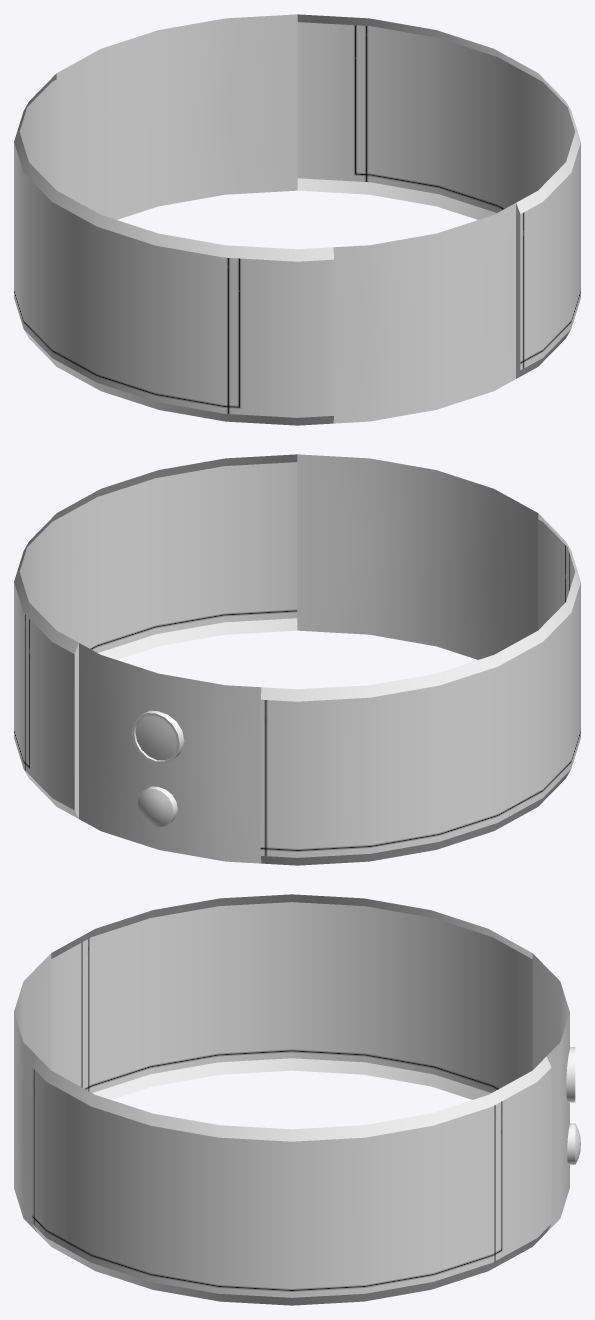
Rendered from acamar_crew_s2_1.obj.
3 views of the same model, one above another, from view 1: azimuth 30°, elevation 25°; view 2: azimuth 150°, elevation 25°; view 3: azimuth 270°, elevation 25° (orthographic).
Parts seen in each view (by area): view 1: mesh1; view 2: mesh1, windows1; view 3: mesh1.
Part boxes in pixels (x1=…): mesh1: x1=14, y1=14, x2=580, y2=425; mesh1: x1=14, y1=454, x2=580, y2=865; windows1: x1=135, y1=715, x2=177, y2=760; mesh1: x1=14, y1=894, x2=580, y2=1305.
Size of the model in its own units: 2.55 by 0.875 by 2.55.
